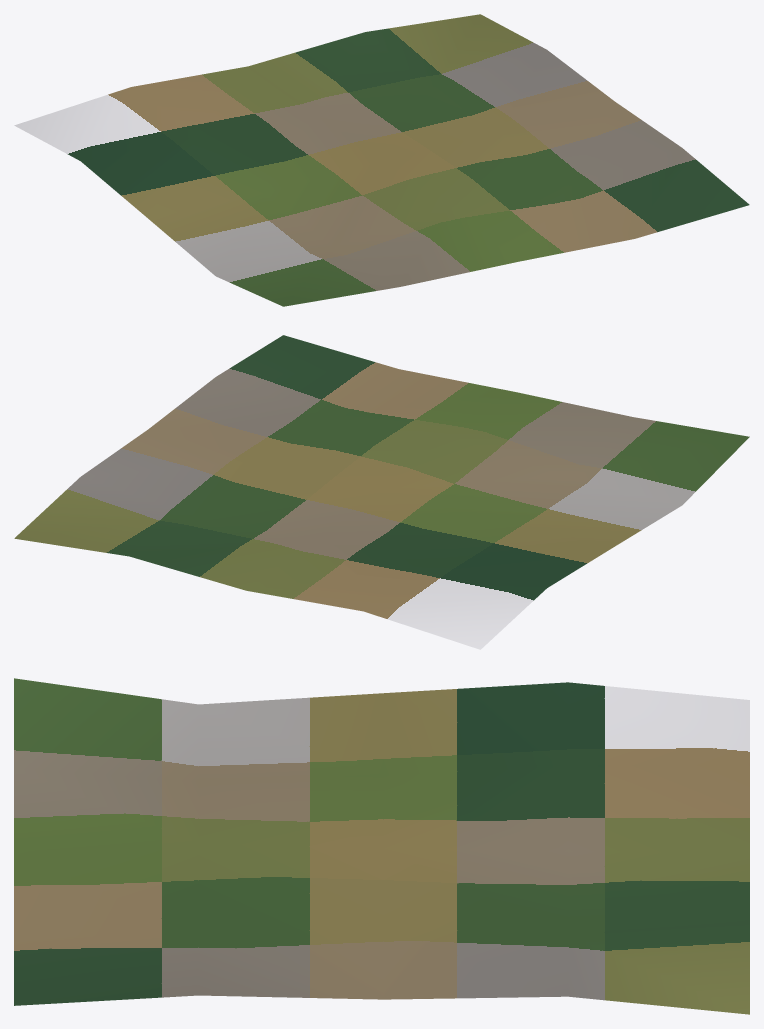
The model's file is tiny-grid.fbx.
The picture shows the model from 3 angles, top to bottom: view 1: azimuth 30°, elevation 25°; view 2: azimuth 150°, elevation 25°; view 3: azimuth 270°, elevation 25°; orthographic projection. The views are drawn at different scales.
Parts seen in each view (by area): view 1: terrain; view 2: terrain; view 3: terrain.
Part boxes in pixels (<box>): terrain: <box>14,14,749,306</box>; terrain: <box>14,335,749,649</box>; terrain: <box>14,678,749,1014</box>.
Bounding box in the file's own units: 51000 × 1998 × 51000.
Materials: 1 (1 with a texture image).
